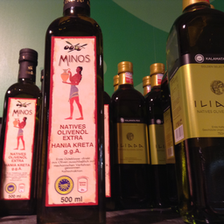oil: (39, 1, 106, 223), (165, 1, 223, 224), (108, 60, 157, 208), (2, 48, 38, 216)
